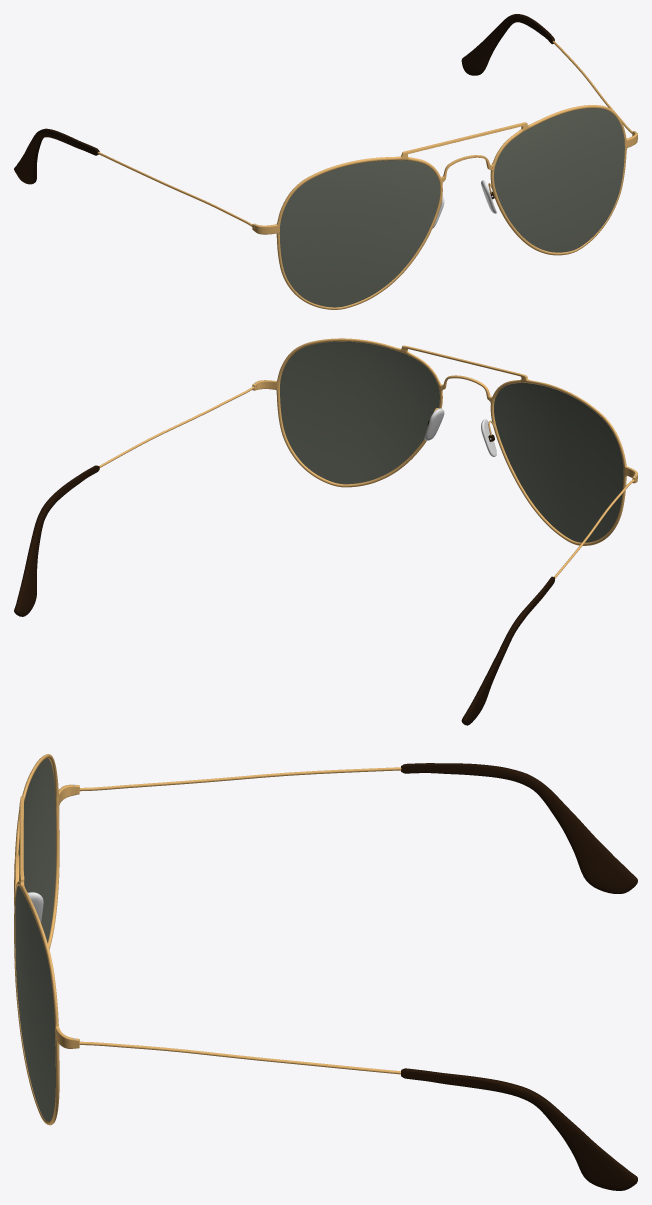
The picture shows the model from 3 angles, top to bottom: view 1: azimuth 30°, elevation 25°; view 2: azimuth 150°, elevation 25°; view 3: azimuth 270°, elevation 25°; orthographic projection. The views are drawn at different scales.
Parts seen in each view (by area): view 1: Aviators_Glass tinted_0, Aviators_Gold metallic_0, Aviators_Black gloss_0; view 2: Aviators_Glass tinted_0, Aviators_Gold metallic_0, Aviators_Black gloss_0, Aviators_Transparent_0; view 3: Aviators_Glass tinted_0, Aviators_Black gloss_0, Aviators_Gold metallic_0.
Part boxes in pixels (bbox=[...]): Aviators_Glass tinted_0: bbox=[279, 108, 624, 307]; Aviators_Gold metallic_0: bbox=[97, 41, 637, 309]; Aviators_Black gloss_0: bbox=[14, 14, 554, 199]; Aviators_Glass tinted_0: bbox=[280, 341, 623, 542]; Aviators_Gold metallic_0: bbox=[99, 338, 637, 578]; Aviators_Black gloss_0: bbox=[14, 420, 554, 725]; Aviators_Transparent_0: bbox=[424, 408, 496, 456]; Aviators_Glass tinted_0: bbox=[15, 758, 55, 1121]; Aviators_Black gloss_0: bbox=[401, 763, 637, 1190]; Aviators_Gold metallic_0: bbox=[14, 754, 401, 1125].
Bounding box in the file's own units: 17.36 × 5.22 × 14.4.
